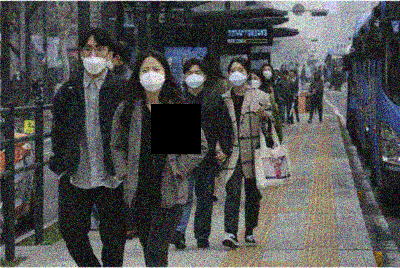mask_weared_incorrect: (83, 43, 110, 75)
with_mask: (139, 65, 167, 94), (228, 67, 248, 88), (185, 70, 204, 89), (249, 76, 262, 90), (262, 68, 273, 81), (314, 75, 320, 81)
without_mask: (283, 73, 288, 80), (290, 72, 295, 78)
